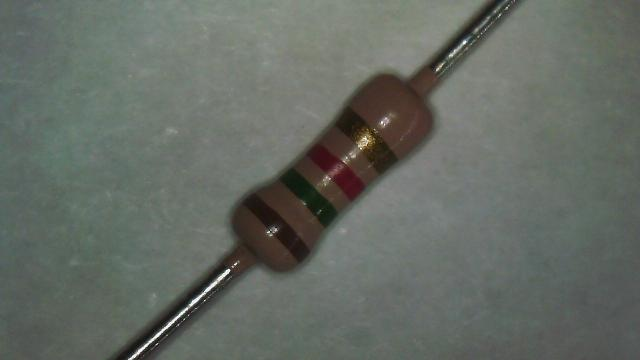brown: (244, 196, 308, 260)
gold: (336, 109, 395, 170)
green: (280, 169, 336, 226)
red: (307, 144, 364, 200)
resistor: (198, 42, 475, 305)
